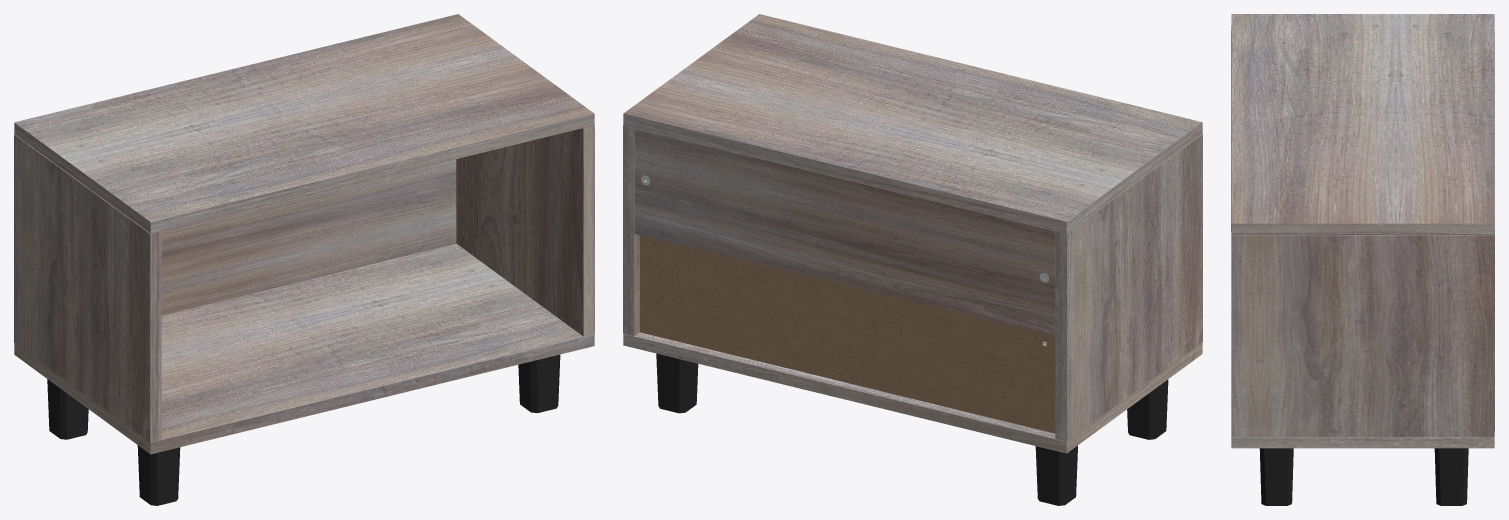
3 renders of one model, left to right at view 1: azimuth 30°, elevation 25°; view 2: azimuth 150°, elevation 25°; view 3: azimuth 270°, elevation 25°, orthographic. The views are drawn at different scales.
Parts seen in each view (by area): view 1: group_0.114, Plane, group_0.115; view 2: group_0.114, Plane.001, group_0.115; view 3: group_0.114, group_0.115.
Part boxes in pixels (bbox=[...]): group_0.114: bbox=[14, 14, 594, 454]; Plane: bbox=[161, 159, 456, 315]; group_0.115: bbox=[47, 354, 560, 505]; group_0.114: bbox=[623, 14, 1202, 453]; Plane.001: bbox=[640, 177, 1055, 433]; group_0.115: bbox=[656, 353, 1168, 505]; group_0.114: bbox=[1231, 14, 1494, 448]; group_0.115: bbox=[1259, 448, 1468, 505].
Size of the model in its own units: 0.7006 by 0.453 by 0.372.
4 materials, 2 textured.
